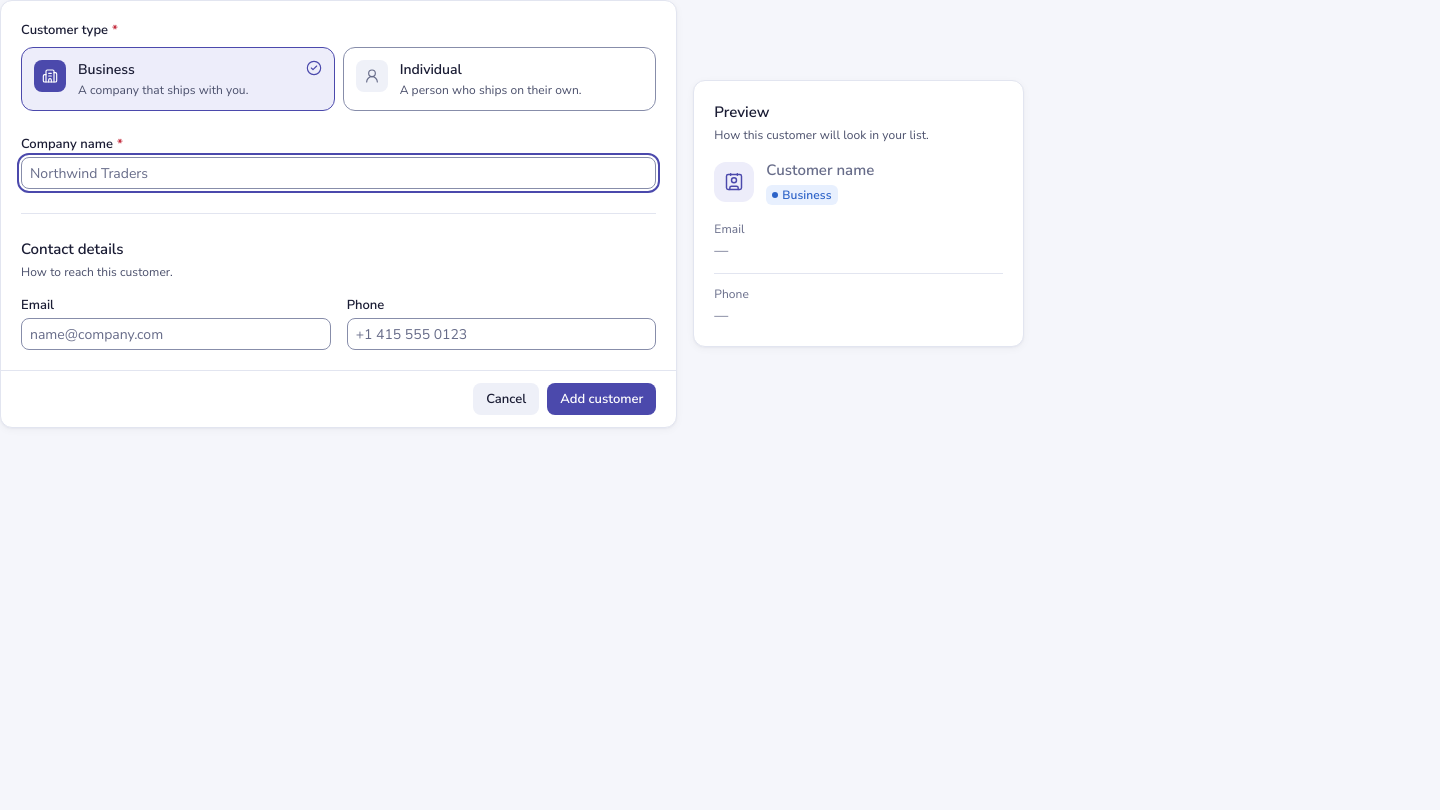
Scenario: CustomerForm › adding a customer › creates the customer with an idempotency key, confirms, and opens the new customer
Type "  Acme Ltd " into the field labelled "Company name*" at (339, 173), box left=21, top=157, right=656, bottom=189
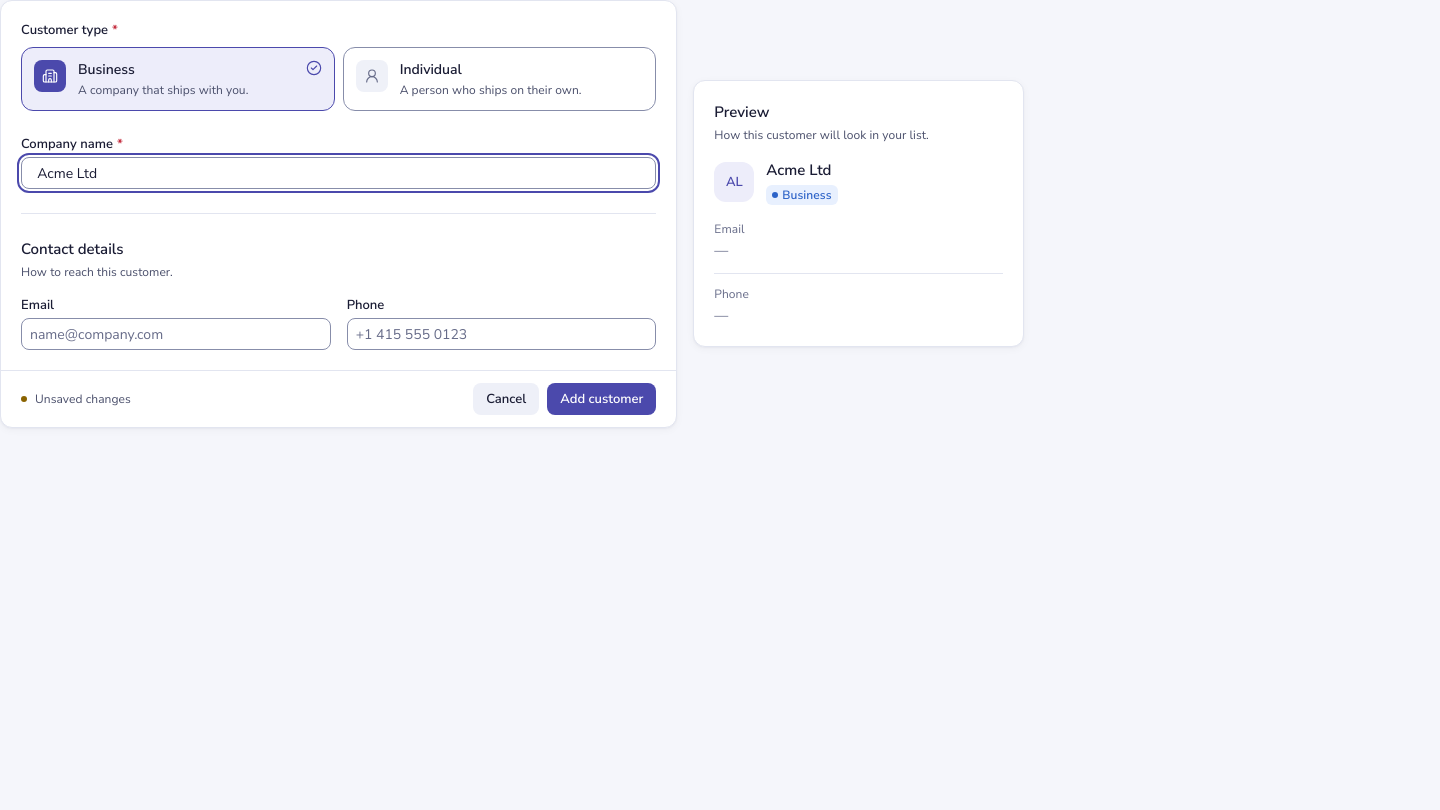
Type "ops@acme.test" into the field labelled "Email" at (176, 334), box left=21, top=318, right=331, bottom=350
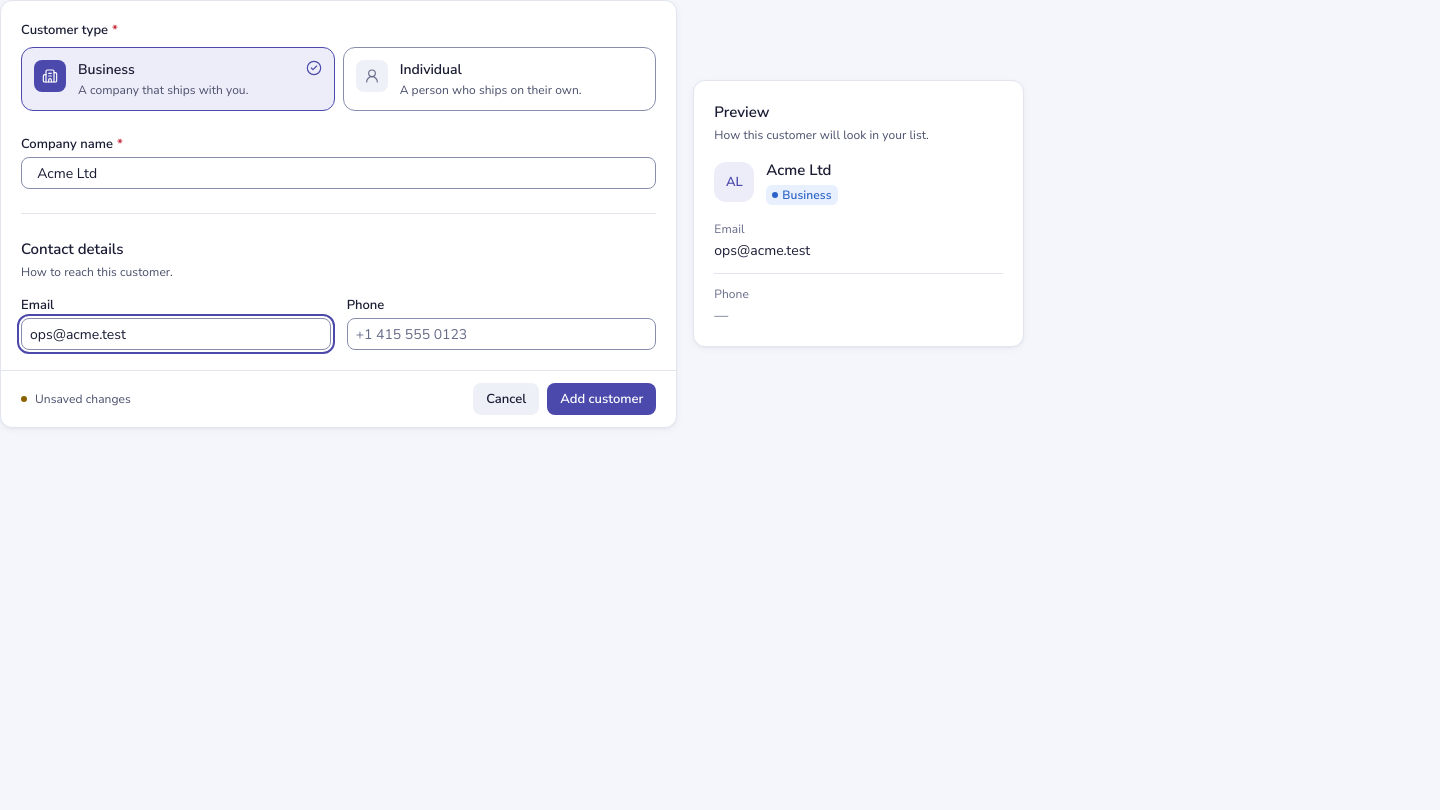
Type "+14155550123" into the field labelled "Phone" at (502, 334), box left=347, top=318, right=656, bottom=350
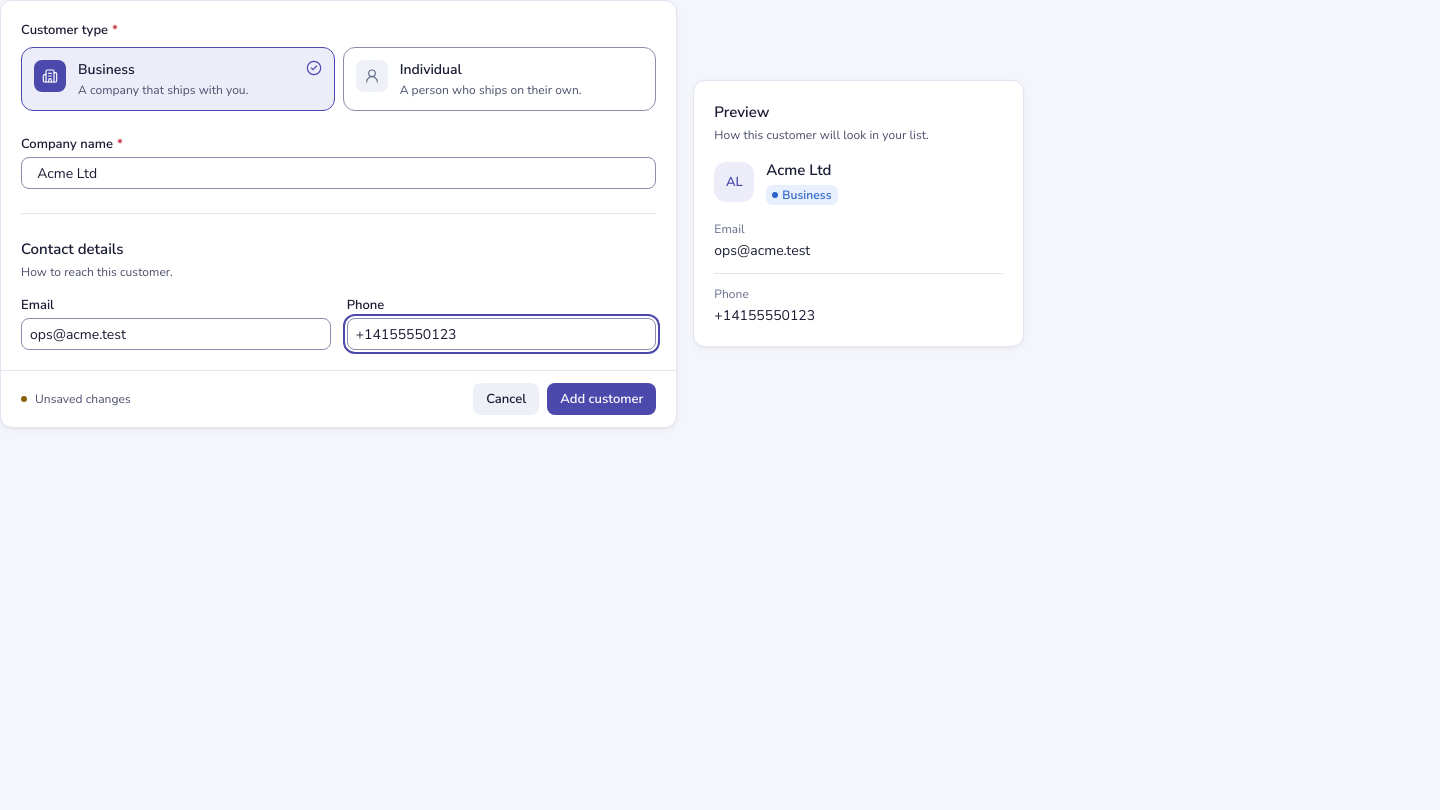
Click the button "Add customer" at (602, 399), box left=547, top=383, right=656, bottom=415
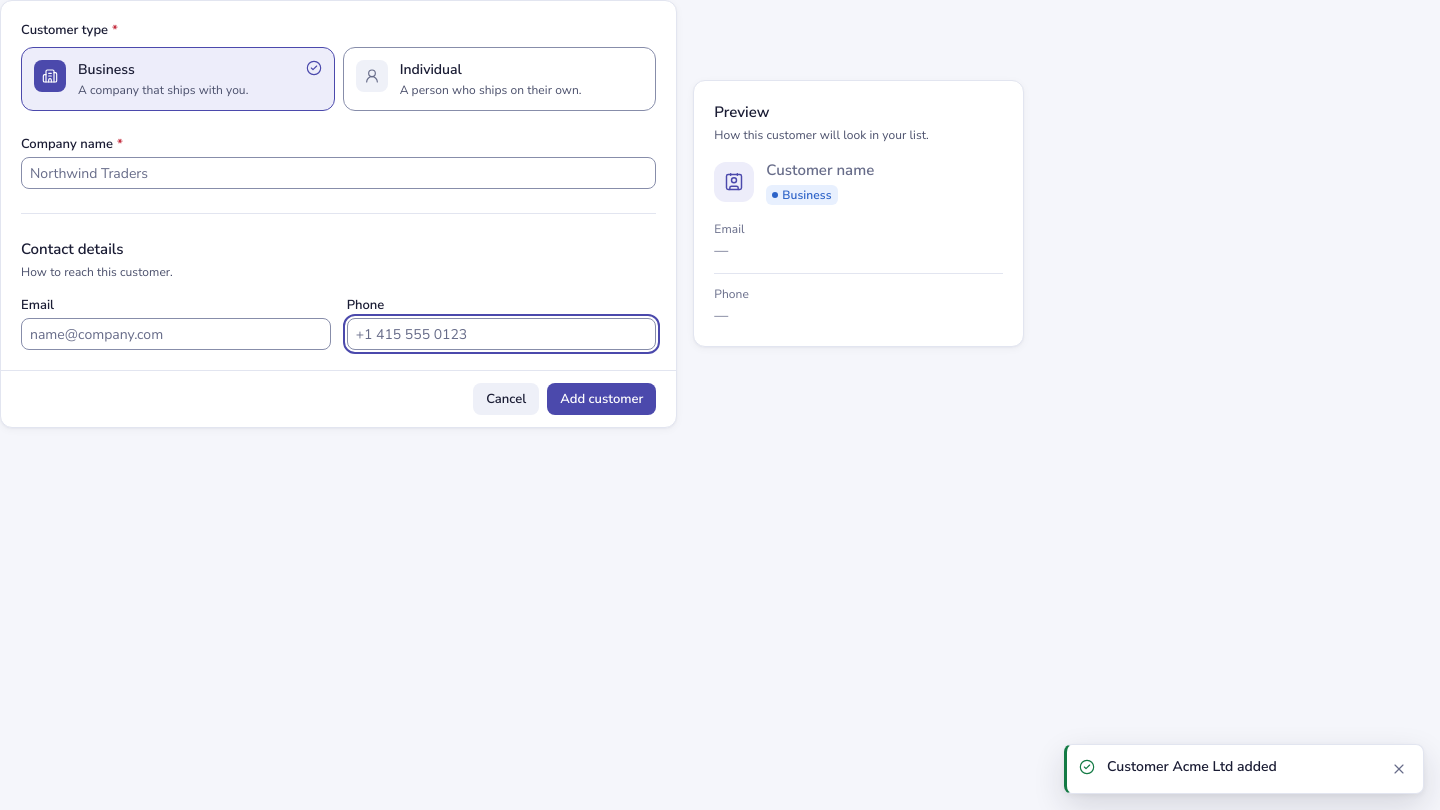
Expected: the text "Customer Acme Ltd added" is shown, left=1107, top=757, right=1277, bottom=776
